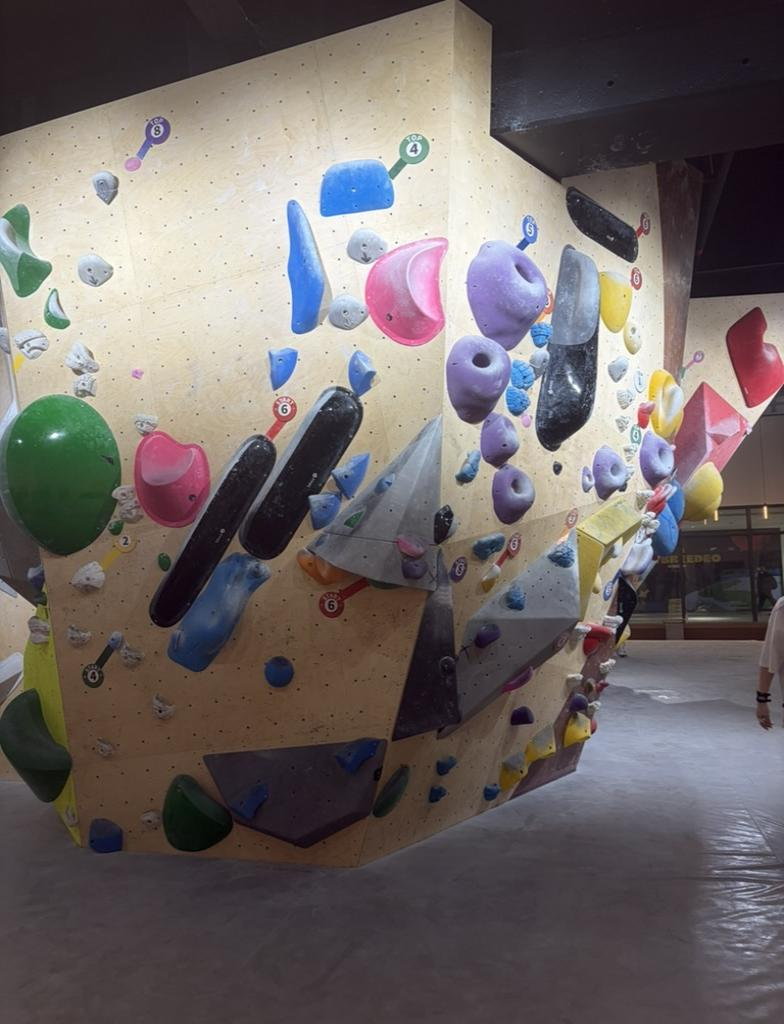crimp: (344, 509, 363, 528)
downhold: (530, 348, 548, 377), (608, 356, 628, 381)
jib: (125, 156, 141, 171), (108, 520, 120, 534), (132, 368, 142, 377)
jug: (0, 691, 71, 800), (162, 775, 233, 851), (320, 159, 393, 215), (332, 453, 369, 498), (349, 351, 376, 395), (309, 492, 341, 529), (270, 348, 297, 390), (65, 341, 98, 374), (70, 561, 104, 593), (14, 329, 48, 358), (473, 533, 504, 560), (455, 450, 479, 483), (547, 541, 575, 567), (510, 361, 535, 389), (506, 385, 530, 414), (153, 692, 176, 721), (120, 643, 144, 667), (119, 500, 143, 523), (74, 373, 96, 396), (531, 322, 551, 347), (134, 414, 156, 435), (67, 625, 90, 645), (506, 585, 525, 609), (112, 486, 136, 504), (96, 738, 113, 757)
ledge: (135, 430, 209, 527), (567, 187, 637, 261), (600, 272, 630, 332), (348, 228, 387, 264), (329, 293, 368, 329), (79, 253, 112, 286), (92, 171, 117, 204)
pocket: (468, 240, 546, 349), (446, 336, 509, 422), (493, 464, 533, 523), (481, 413, 519, 467), (639, 433, 673, 487), (593, 445, 626, 499), (624, 321, 641, 353), (581, 466, 593, 492)
sidepull: (150, 437, 276, 627), (240, 386, 361, 557), (536, 246, 598, 450), (167, 553, 270, 671), (365, 238, 447, 345), (287, 201, 331, 333), (0, 204, 51, 297), (44, 289, 69, 329), (434, 505, 459, 543)
sloper: (264, 655, 293, 687)
tape: (320, 578, 369, 617), (388, 135, 429, 178), (137, 116, 170, 158), (100, 533, 136, 571), (265, 396, 296, 440), (83, 648, 112, 687), (496, 533, 519, 567), (517, 215, 537, 250), (559, 508, 577, 539), (449, 556, 467, 582), (603, 571, 619, 600), (636, 212, 650, 237), (686, 350, 703, 368), (631, 266, 642, 290), (632, 425, 640, 443)
volume: (458, 529, 580, 724), (316, 415, 441, 588), (205, 737, 386, 847), (392, 550, 459, 740), (23, 633, 66, 744), (36, 606, 49, 623)
